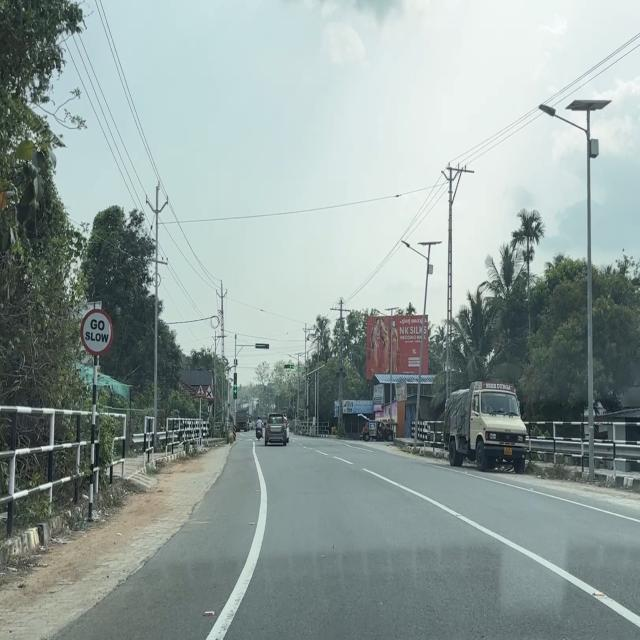CROSS_ROAD: (206, 384, 214, 399)
GO_SLOW: (80, 307, 115, 357)
PEDESTRIAN_CROSSING: (194, 383, 206, 400)
